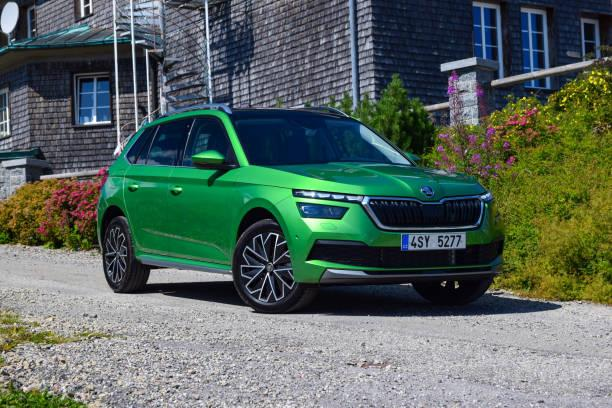skoda: (415, 182, 445, 200)
